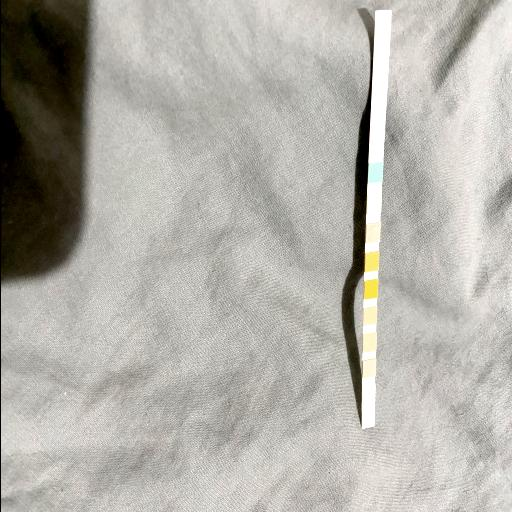Bilirubin: (367, 196, 378, 212)
Blood: (364, 282, 376, 296)
Glucose: (368, 164, 380, 182)
Ketone: (366, 225, 378, 241)
Leukocytes: (362, 412, 372, 426)
Nitrite: (362, 388, 372, 400)
Protein: (363, 336, 373, 350)
SpGravity: (366, 254, 376, 270)
Urobilinogen: (363, 362, 373, 376)
pH: (364, 310, 374, 324)
strip: (361, 11, 390, 428)
